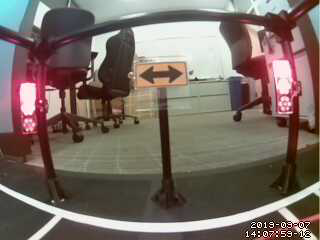Left_Right_sign: (133, 63, 189, 87)
Traffic_light_red: (275, 60, 295, 114), (20, 84, 39, 132)
